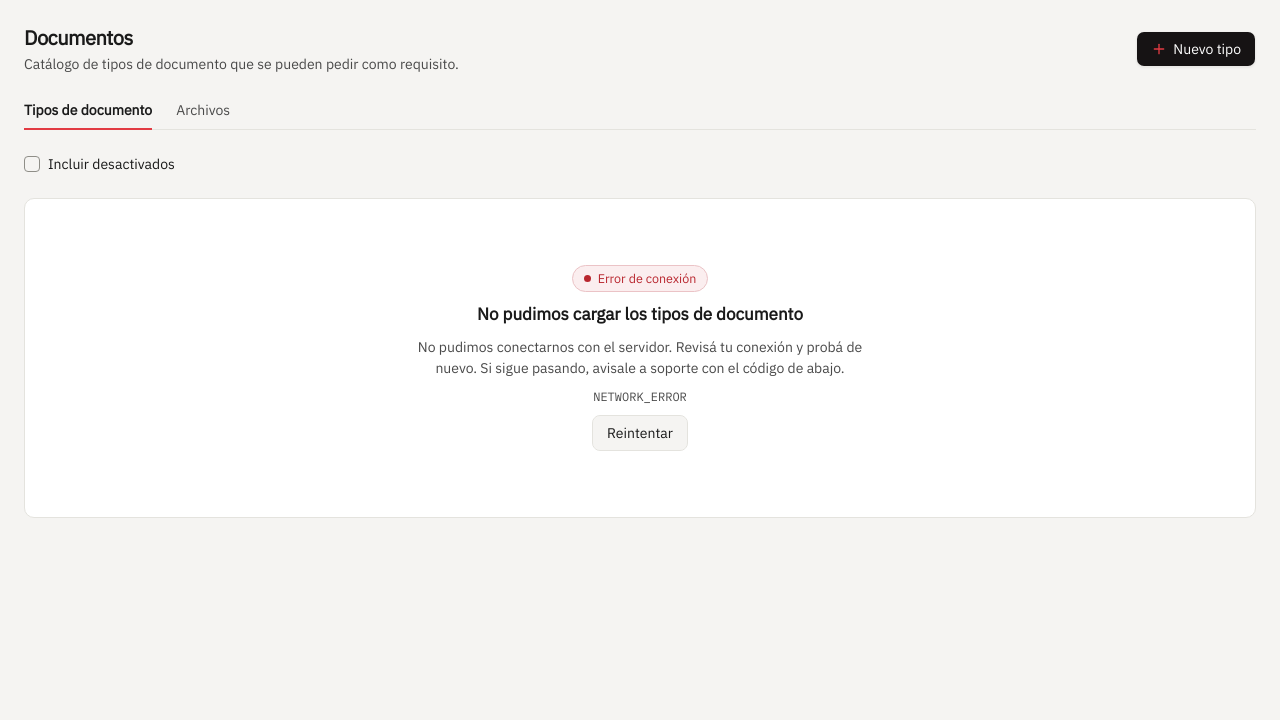
it: TiposDocumentoPage: estados de la consulta › Reintentar vuelve a pedir el catálogo y, si sale bien, lo muestra
This screenshot has width=1280, height=720.
expect the message is shown: met, box [24,198,1256,518]
Click the button "Reintentar".
click(640, 433)  # box [592,415,688,451]
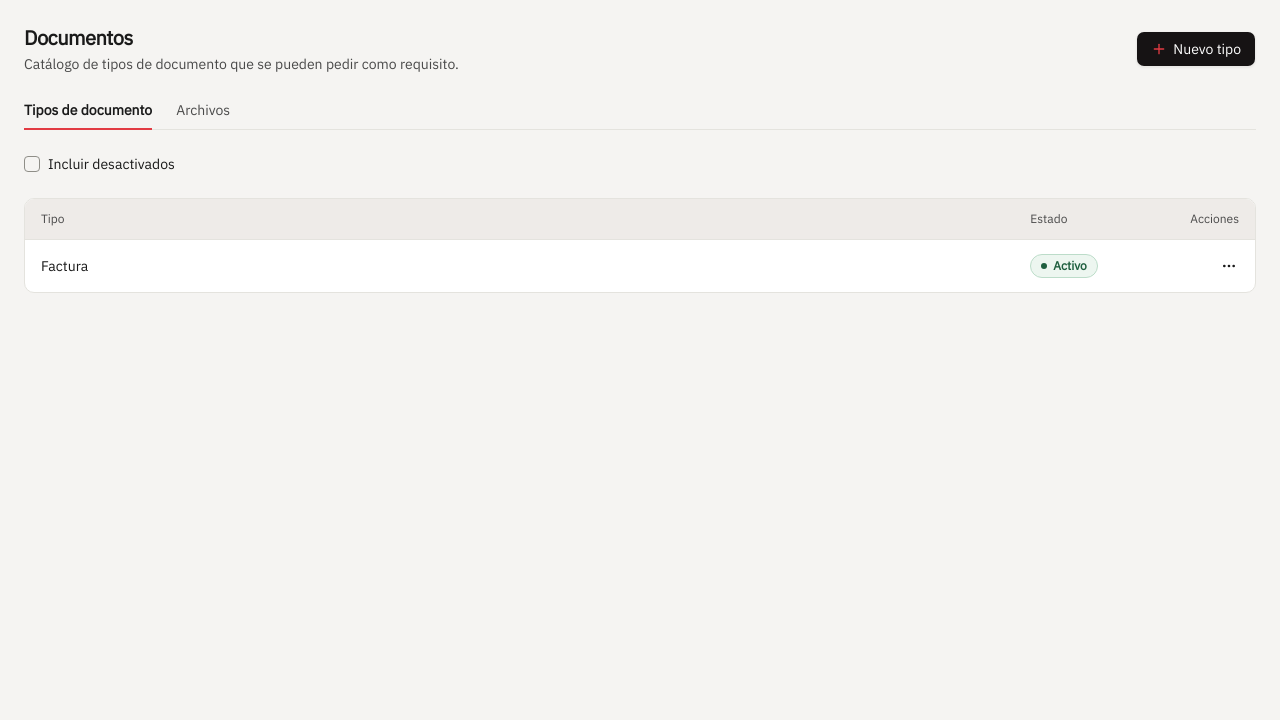
expect the table named "Tipos de documento" is shown: met, box [25,199,1255,292]
expect the message is gone: met
